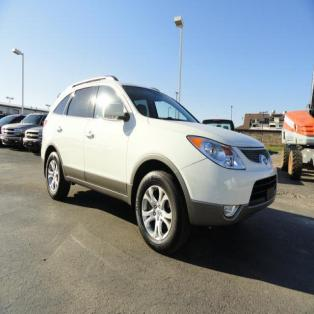Auto: (42, 74, 278, 255)
